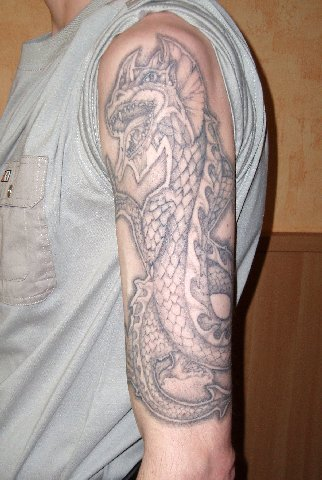tatu3_bukva: (98, 27, 247, 431)
